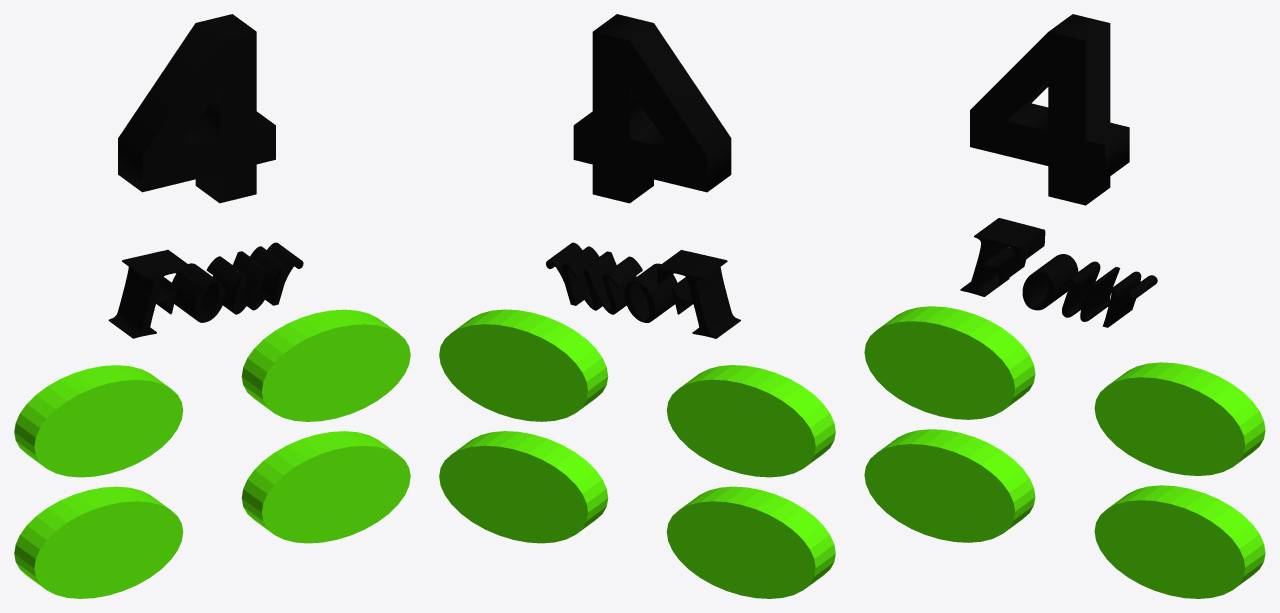
Rendered from Number_4.glb.
3 renders of one model, left to right at view 1: azimuth 30°, elevation 25°; view 2: azimuth 150°, elevation 25°; view 3: azimuth 330°, elevation 25°, orthographic.
Visible parts, largest first — view 1: Text, Cylinder.003, Cylinder.002, Cylinder, Cylinder.001, Text.001; view 2: Text, Cylinder.002, Cylinder.003, Cylinder, Cylinder.001, Text.001; view 3: Text, Cylinder, Cylinder.002, Cylinder.003, Cylinder.001, Text.001.
Boxes of the visible parts, x1=… form: Text: x1=118, y1=14, x2=275, y2=203; Cylinder.003: x1=14, y1=486, x2=183, y2=598; Cylinder.002: x1=241, y1=431, x2=410, y2=543; Cylinder: x1=14, y1=365, x2=183, y2=477; Cylinder.001: x1=241, y1=309, x2=410, y2=421; Text.001: x1=108, y1=242, x2=303, y2=338; Text: x1=573, y1=14, x2=731, y2=203; Cylinder.002: x1=439, y1=431, x2=608, y2=543; Cylinder.003: x1=666, y1=486, x2=835, y2=598; Cylinder: x1=666, y1=365, x2=835, y2=477; Cylinder.001: x1=439, y1=309, x2=608, y2=421; Text.001: x1=546, y1=242, x2=740, y2=338; Text: x1=970, y1=14, x2=1129, y2=205; Cylinder: x1=864, y1=306, x2=1035, y2=419; Cylinder.002: x1=1094, y1=485, x2=1265, y2=598; Cylinder.003: x1=864, y1=429, x2=1035, y2=542; Cylinder.001: x1=1094, y1=362, x2=1265, y2=475; Text.001: x1=960, y1=218, x2=1157, y2=327.
Bounding box in the file's own units: 1.08 × 1.45 × 0.12.
